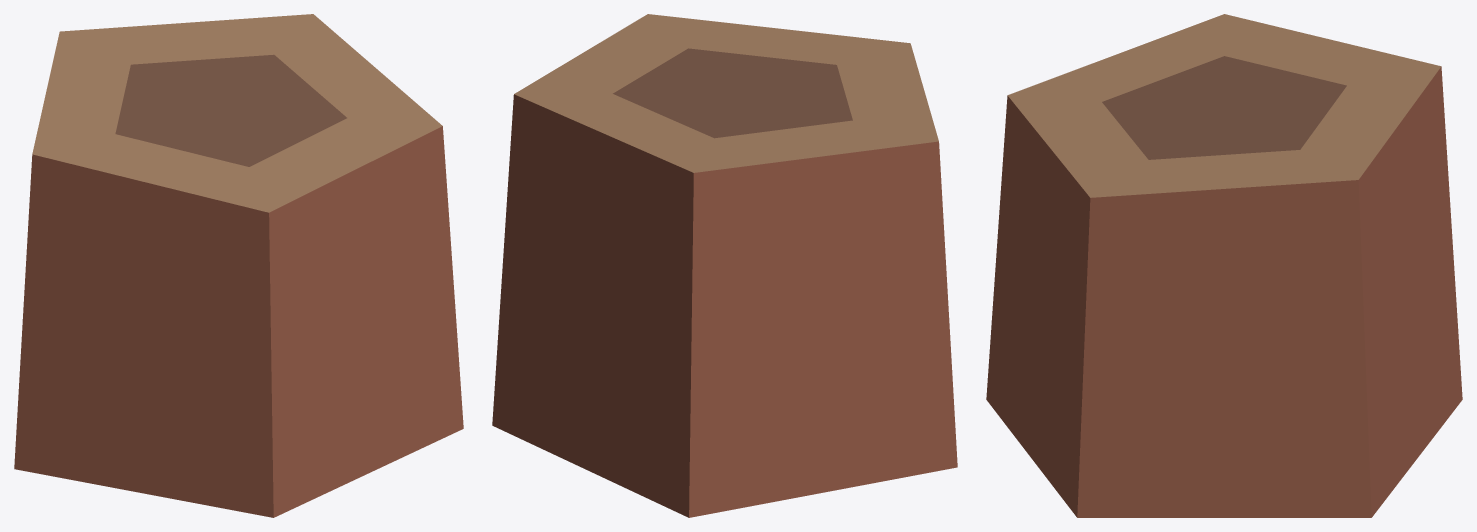
File: TB_Env_Trunk_Short_A.FBX
3 views of the same model, side by side, from view 1: azimuth 30°, elevation 25°; view 2: azimuth 150°, elevation 25°; view 3: azimuth 270°, elevation 25° (orthographic). The views are drawn at different scales.
Parts seen in each view (by area): view 1: TB_Env_Trunk_Short_A; view 2: TB_Env_Trunk_Short_A; view 3: TB_Env_Trunk_Short_A.
Part boxes in pixels (x1,y1,x2,y2): TB_Env_Trunk_Short_A: (14,14,463,517); TB_Env_Trunk_Short_A: (492,14,957,517); TB_Env_Trunk_Short_A: (986,14,1462,517).
Size of the model in its own units: 0.6858 by 0.5615 by 0.7211.
